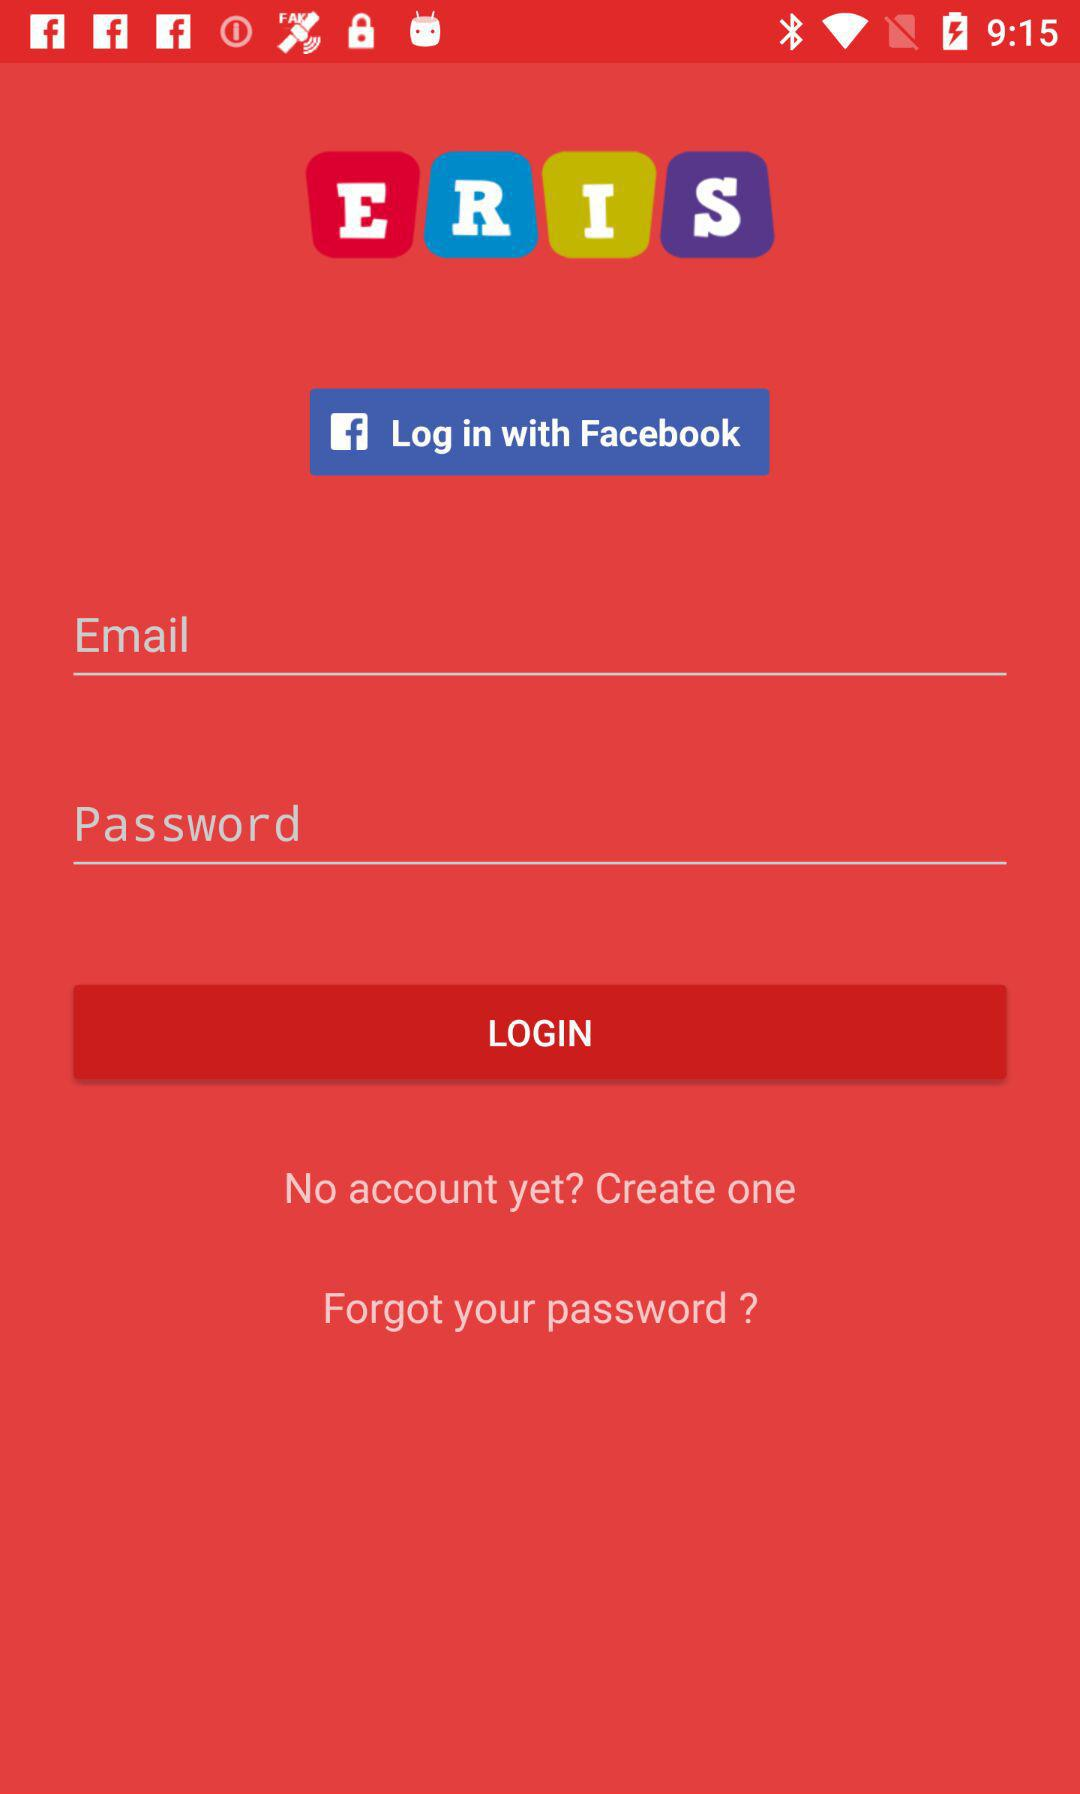EditText: (72, 803, 1010, 866), (73, 615, 1008, 677)
Image: (305, 150, 775, 261)
Text: (284, 1171, 797, 1215), (325, 1289, 758, 1334), (77, 803, 299, 843), (77, 616, 190, 656)
TextButton: (73, 984, 1008, 1084), (310, 388, 771, 477)
UpperTaskBar: (1, 1, 1080, 64)
